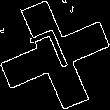L_SE: (31, 26, 79, 84)
